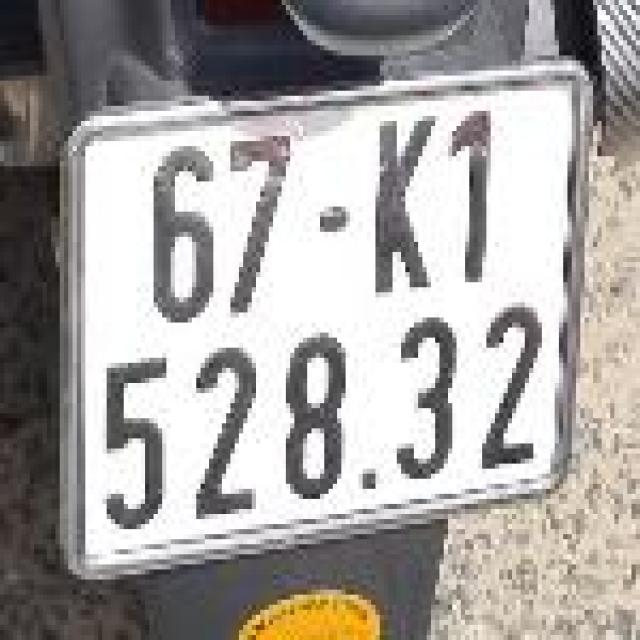1: (448, 108, 512, 290), (478, 288, 482, 292)
2: (183, 338, 269, 524), (482, 295, 546, 476)
3: (390, 300, 459, 491)
5: (96, 338, 173, 534)
6: (145, 136, 209, 333)
7: (220, 118, 296, 315)
8: (279, 330, 352, 512)
K: (356, 96, 433, 292)
